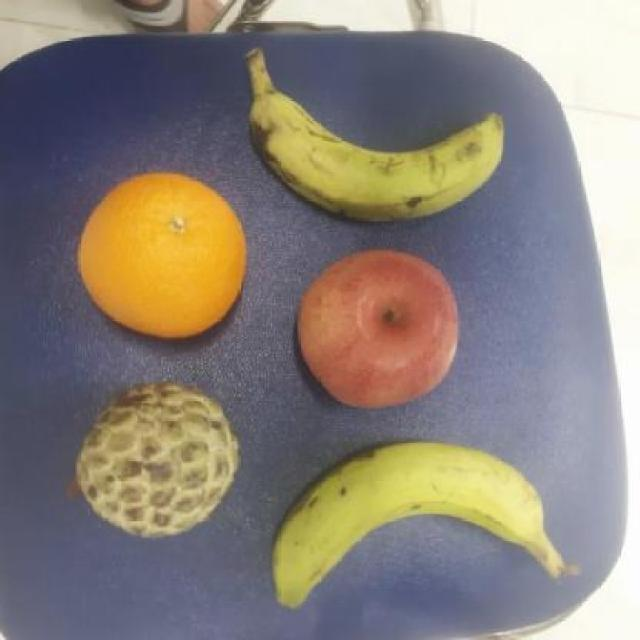apple: (297, 246, 466, 414)
banana: (270, 437, 561, 608), (245, 78, 508, 227)
oren: (73, 169, 253, 342)
sugar apple: (74, 383, 245, 542)
